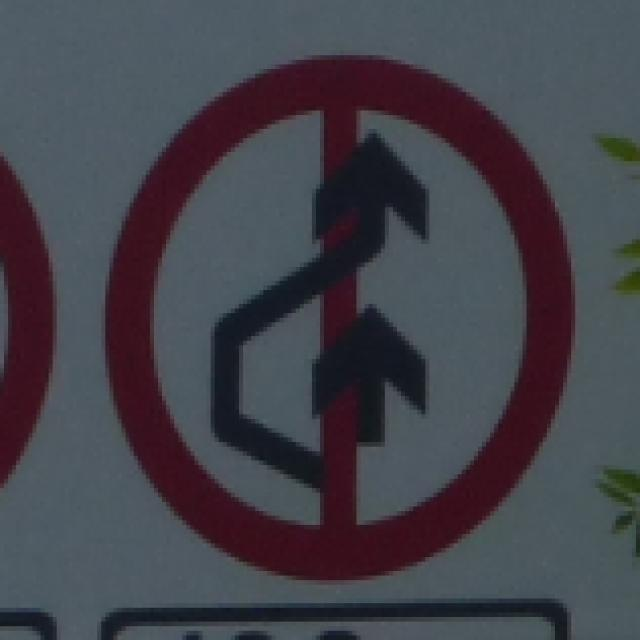Not that Direction: (114, 41, 590, 586)
